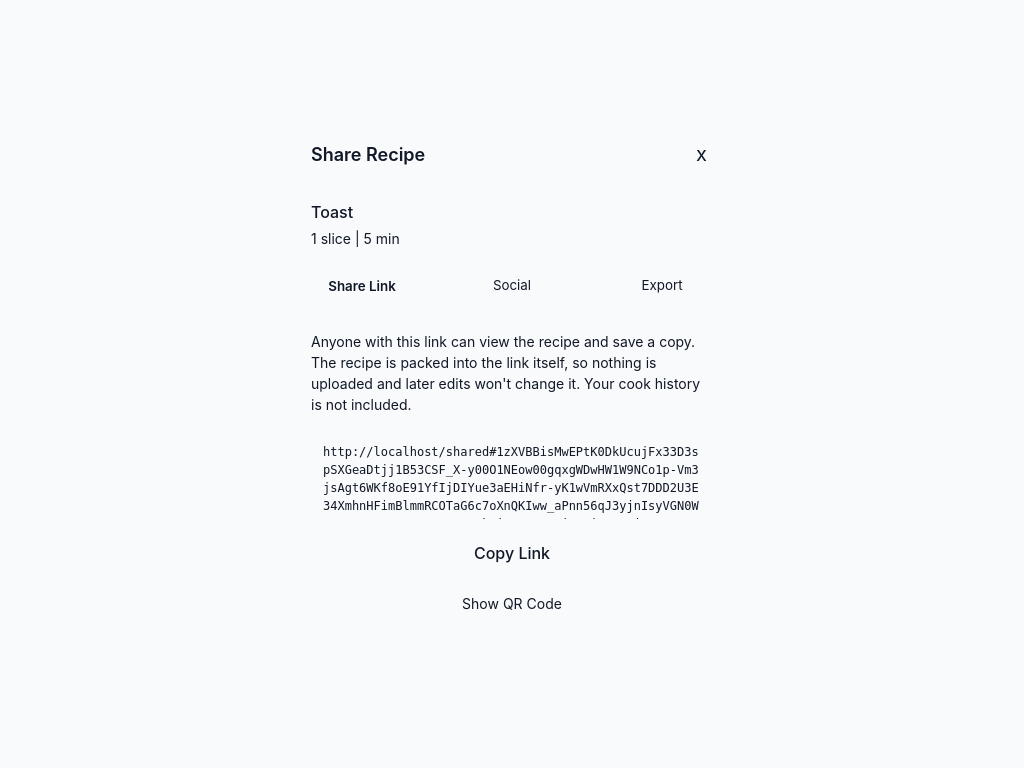
Scenario: ShareModal › copies the link and confirms
What coordinates should you click on to do the following:
click the button "Copy Link"
I would click on:
 (512, 552)
Its box is [311,534,713,570].
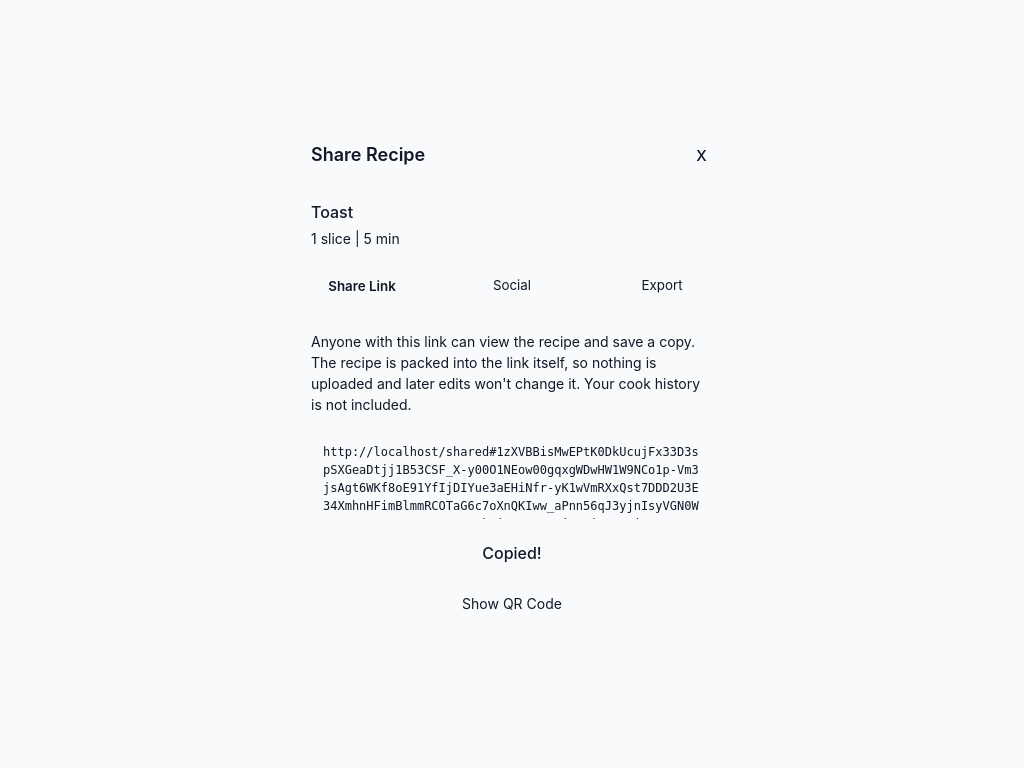
Now the button "Copied!" is shown, box [311,534,713,570]
